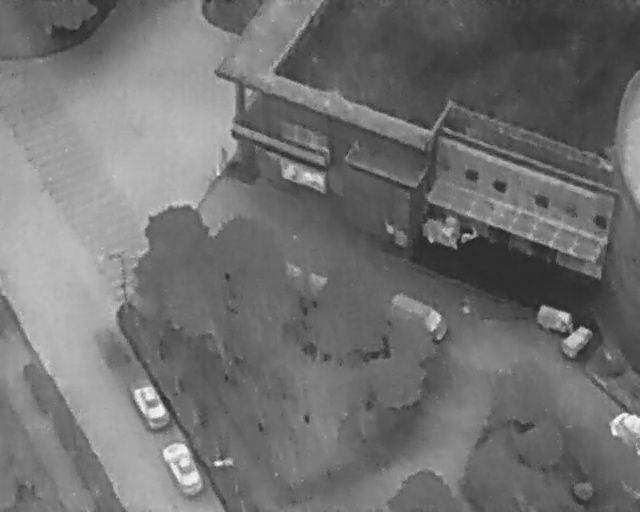Car: (384, 289, 453, 344), (159, 438, 206, 499), (131, 381, 174, 434), (532, 302, 575, 336), (558, 322, 595, 361)
